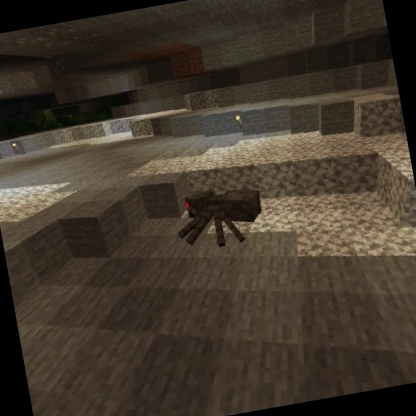spider: (167, 176, 271, 257)
